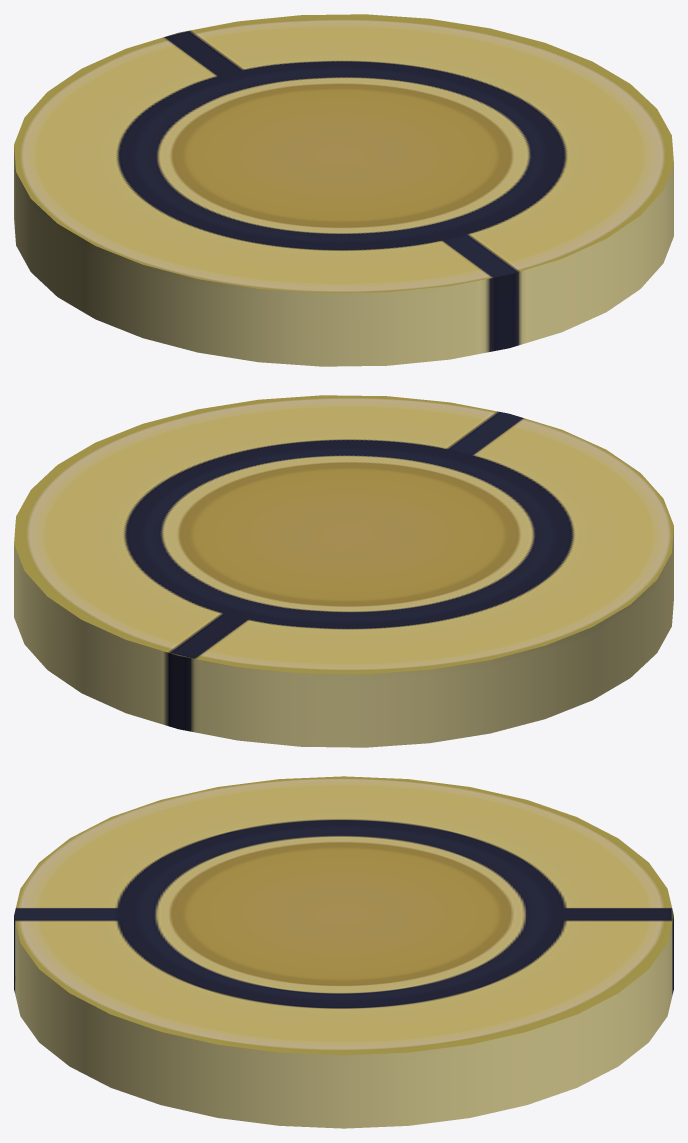
File: Coin_S.FBX
The picture shows the model from 3 angles, top to bottom: view 1: azimuth 30°, elevation 25°; view 2: azimuth 150°, elevation 25°; view 3: azimuth 270°, elevation 25°; orthographic projection.
Visible parts, largest first — view 1: SmallCoin; view 2: SmallCoin; view 3: SmallCoin.
Boxes of the visible parts, <box> form: SmallCoin: <box>14,14,673,366</box>; SmallCoin: <box>14,395,673,747</box>; SmallCoin: <box>14,776,673,1128</box>.
Size of the model in its own units: 30.86 by 3.78 by 30.86.
